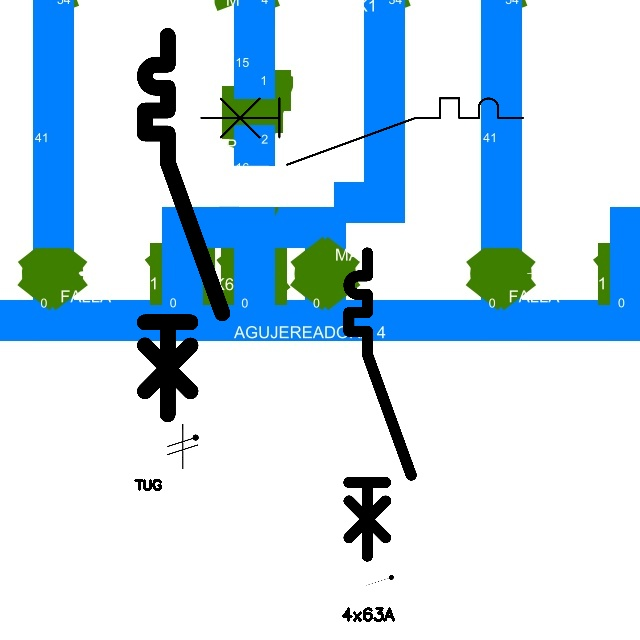interruptor_termomagnetico: (135, 26, 232, 424), (193, 90, 531, 172), (341, 245, 419, 564)
